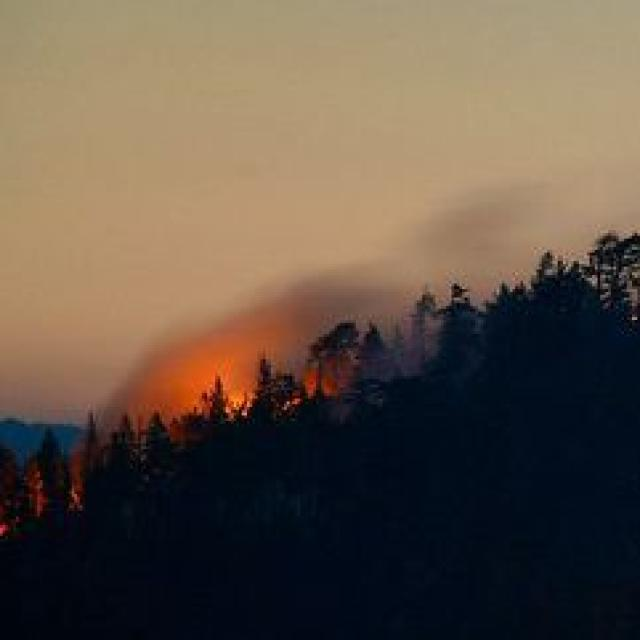Smoke: (104, 182, 572, 428)
